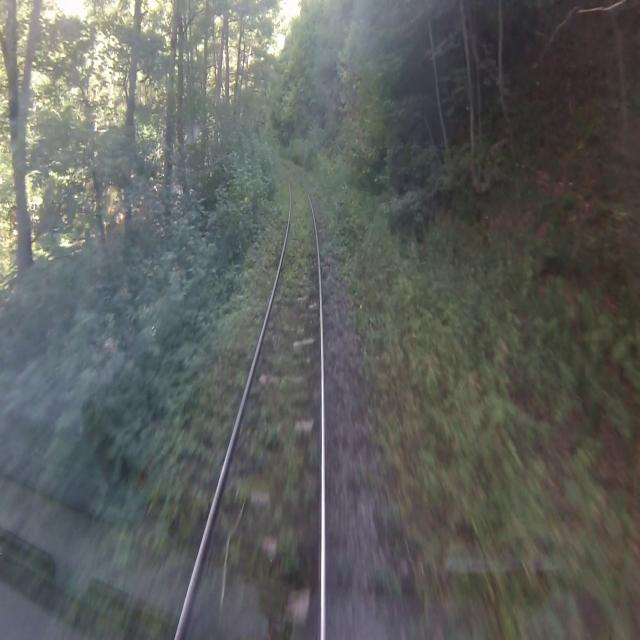Plant: (109, 162, 290, 556), (279, 145, 413, 606), (245, 164, 319, 504), (223, 527, 301, 629), (67, 574, 175, 639), (225, 478, 252, 506), (335, 561, 351, 587)
